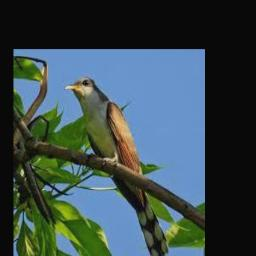Cuckoo: (64, 77, 169, 256)
